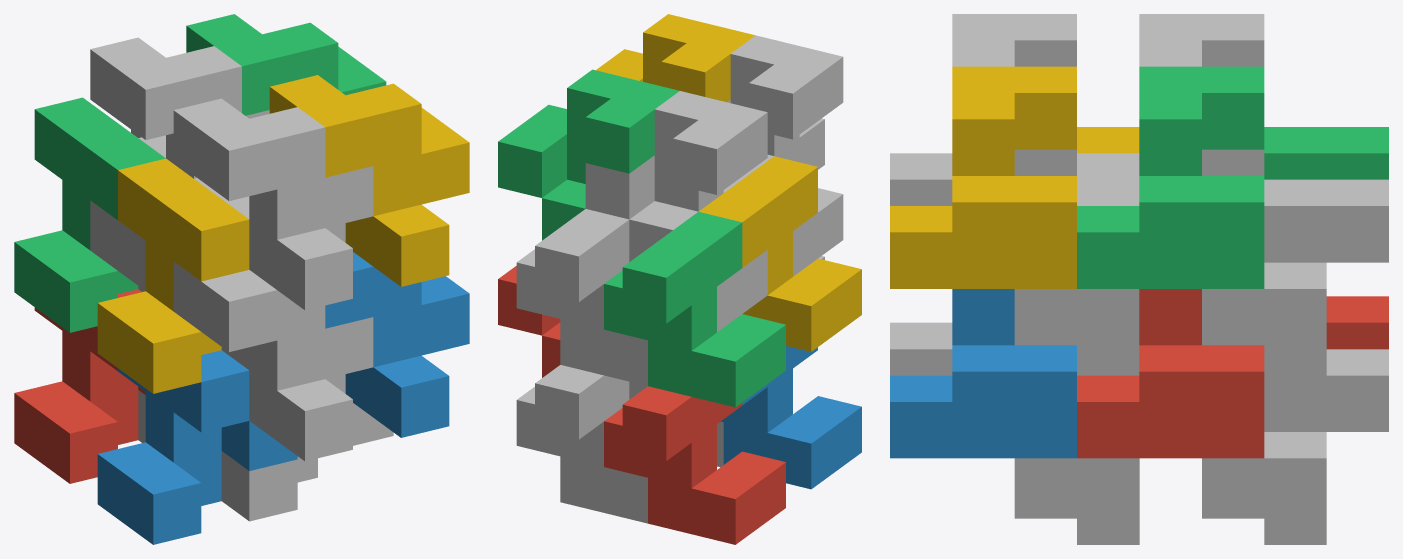
The model's file is tiling.obj.
3 renders of one model, left to right at view 1: azimuth 30°, elevation 25°; view 2: azimuth 150°, elevation 25°; view 3: azimuth 270°, elevation 25°, orthographic. The views are drawn at different scales.
Visible parts, largest first — view 1: copy_2_domain_4, copy_2_domain_8, copy_2_domain_2, copy_1_domain_4, copy_1_domain_2, copy_1_domain_3, copy_2_domain_6, copy_1_domain_1, copy_2_domain_3, copy_2_domain_7, copy_1_domain_6, copy_2_domain_1 (+1 smaller); view 2: copy_1_domain_3, copy_1_domain_1, copy_2_domain_3, copy_2_domain_7, copy_1_domain_4, copy_1_domain_7, copy_1_domain_5, copy_2_domain_4, copy_1_domain_2, copy_2_domain_8, copy_2_domain_2, copy_2_domain_5 (+1 smaller); view 3: copy_2_domain_7, copy_2_domain_8, copy_2_domain_5, copy_2_domain_6, copy_1_domain_7, copy_1_domain_5, copy_2_domain_4, copy_1_domain_8, copy_2_domain_3, copy_1_domain_6, copy_1_domain_3, copy_1_domain_1 (+2 smaller).
Part boxes in pixels (left/top/right/bottom): copy_2_domain_4: left=173, top=98, right=373, bottom=310; copy_2_domain_8: left=269, top=75, right=469, bottom=286; copy_2_domain_2: left=173, top=261, right=373, bottom=461; copy_1_domain_4: left=97, top=158, right=249, bottom=393; copy_1_domain_2: left=97, top=350, right=297, bottom=544; copy_1_domain_3: left=14, top=97, right=165, bottom=332; copy_2_domain_6: left=325, top=252, right=469, bottom=437; copy_1_domain_1: left=14, top=289, right=145, bottom=483; copy_2_domain_3: left=90, top=37, right=269, bottom=198; copy_2_domain_7: left=186, top=14, right=386, bottom=115; copy_1_domain_6: left=221, top=374, right=393, bottom=521; copy_2_domain_1: left=90, top=200, right=145, bottom=290; copy_1_domain_3: left=604, top=211, right=785, bottom=407; copy_1_domain_1: left=604, top=386, right=785, bottom=544; copy_2_domain_3: left=585, top=91, right=767, bottom=261; copy_2_domain_7: left=498, top=69, right=679, bottom=240; copy_1_domain_4: left=699, top=156, right=861, bottom=351; copy_1_domain_7: left=516, top=209, right=647, bottom=385; copy_1_domain_5: left=516, top=365, right=647, bottom=523; copy_2_domain_4: left=727, top=35, right=843, bottom=174; copy_1_domain_2: left=721, top=346, right=861, bottom=489; copy_2_domain_8: left=596, top=14, right=755, bottom=102; copy_2_domain_2: left=793, top=188, right=843, bottom=276; copy_2_domain_5: left=498, top=266, right=560, bottom=377; copy_2_domain_7: left=1077, top=66, right=1264, bottom=288; copy_2_domain_8: left=890, top=66, right=1076, bottom=288; copy_2_domain_5: left=1077, top=289, right=1264, bottom=458; copy_2_domain_6: left=890, top=289, right=1076, bottom=458; copy_1_domain_7: left=1202, top=179, right=1388, bottom=375; copy_1_domain_5: left=1202, top=349, right=1388, bottom=544; copy_2_domain_4: left=890, top=14, right=1076, bottom=205; copy_1_domain_8: left=1014, top=179, right=1139, bottom=375; copy_2_domain_3: left=1077, top=14, right=1264, bottom=179; copy_1_domain_6: left=1014, top=458, right=1139, bottom=544; copy_1_domain_3: left=1264, top=127, right=1388, bottom=179; copy_1_domain_1: left=1326, top=296, right=1388, bottom=349.
Bounding box in the file's own units: 6 × 8 × 8.
